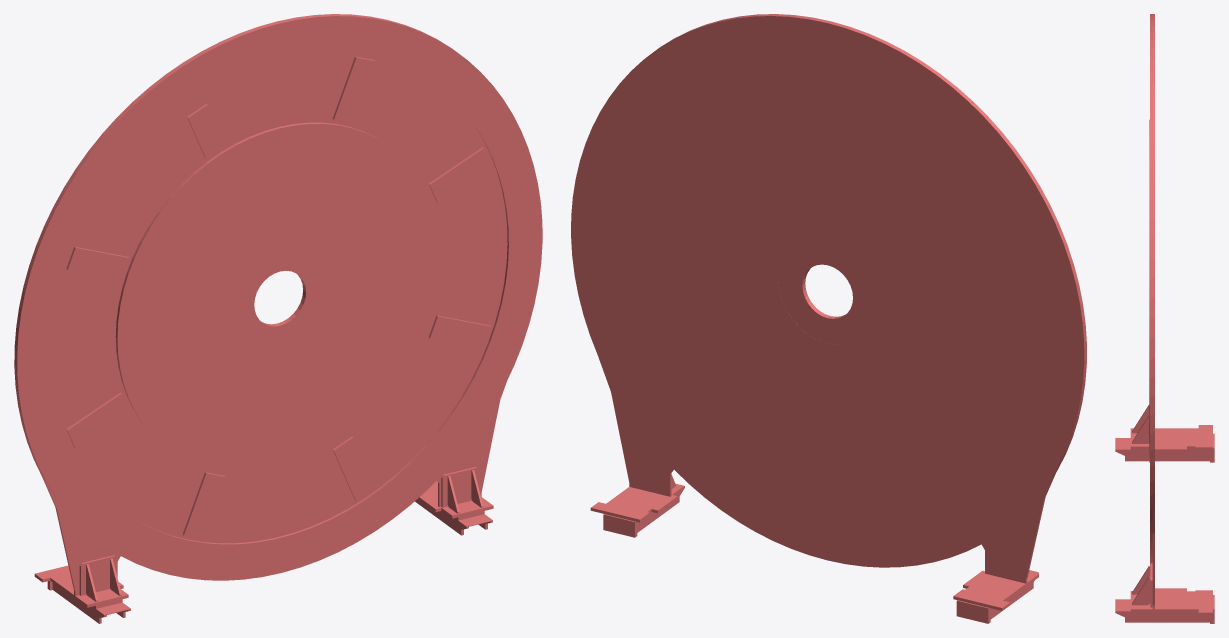
The model's file is Small-Wheel-NJD-SideC.glb.
3 views of the same model, side by side, from view 1: azimuth 30°, elevation 25°; view 2: azimuth 150°, elevation 25°; view 3: azimuth 270°, elevation 25° (orthographic). The views are drawn at different scales.
Visible parts, largest first — view 1: null; view 2: null; view 3: null.
Boxes of the visible parts, bbox=[...] form: null: bbox=[14, 14, 542, 623]; null: bbox=[571, 14, 1086, 623]; null: bbox=[1115, 14, 1214, 623].
Size of the model in its own units: 8.72 by 8.72 by 1.56.
